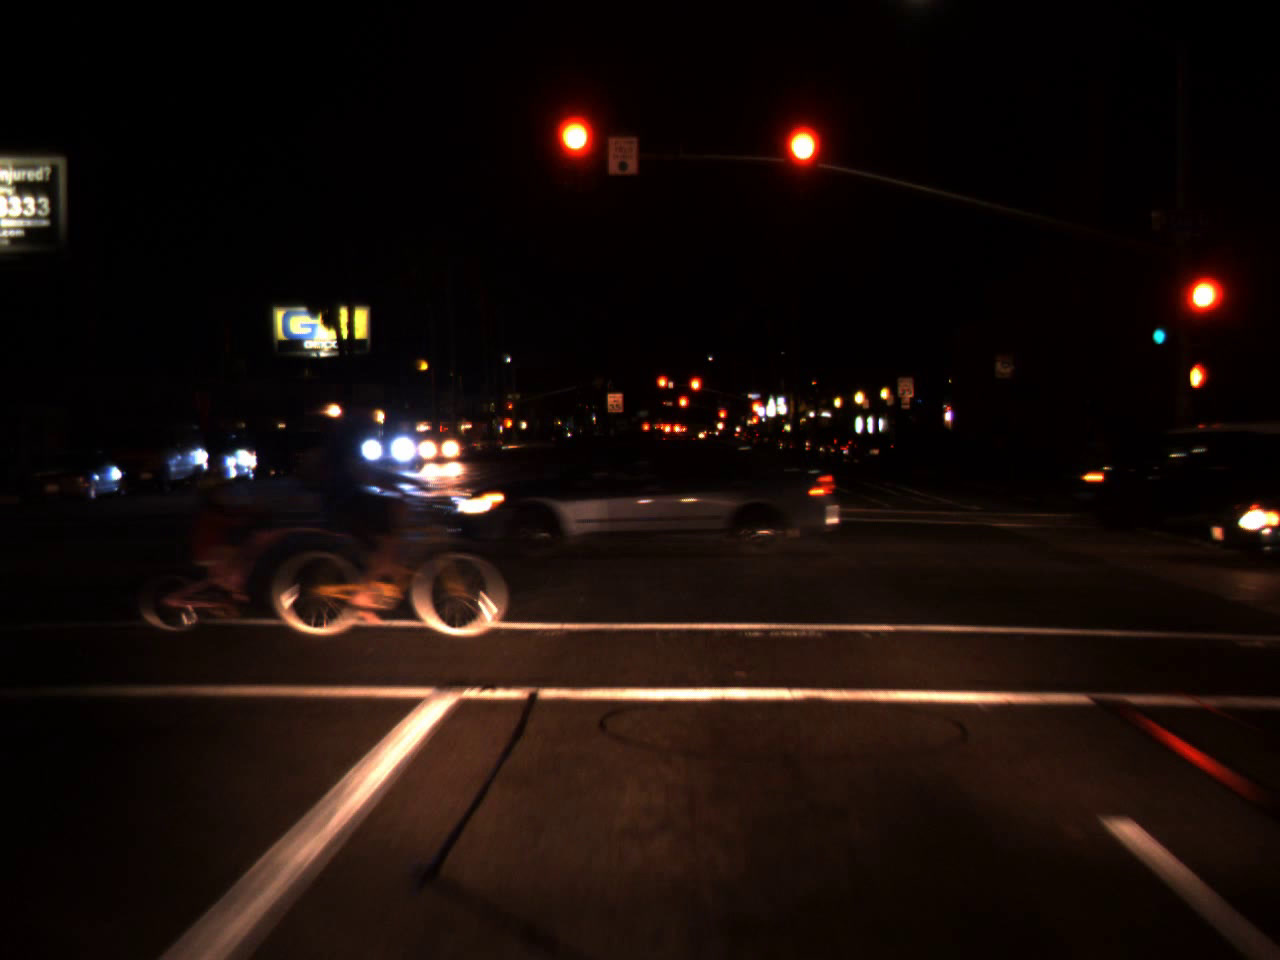stop: (784, 126, 823, 204), (1183, 275, 1222, 345), (557, 118, 593, 193), (688, 376, 701, 405), (655, 374, 668, 401), (676, 394, 689, 418), (717, 408, 727, 429), (751, 402, 761, 419)
